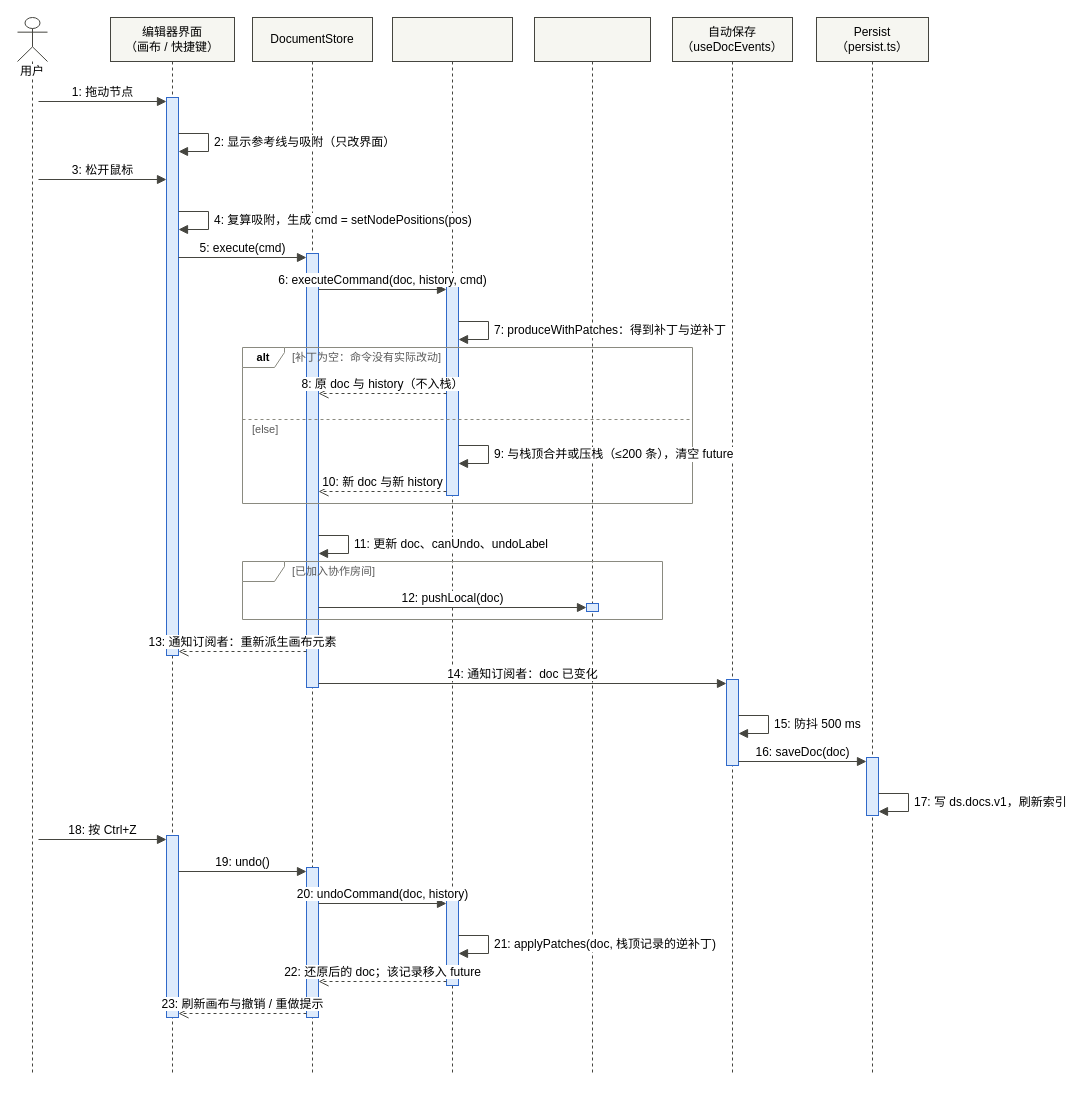
The diagram is 1083 pixels wide and 1093 high, and some of its shapes have lost their labels. The box of each missing label's shape, as (x1, y1, x2, y2) in pixels:
CollabAdapter: (534, 16, 650, 1076)
CommandHistory: (392, 16, 512, 1076)
opt: (242, 560, 662, 620)
